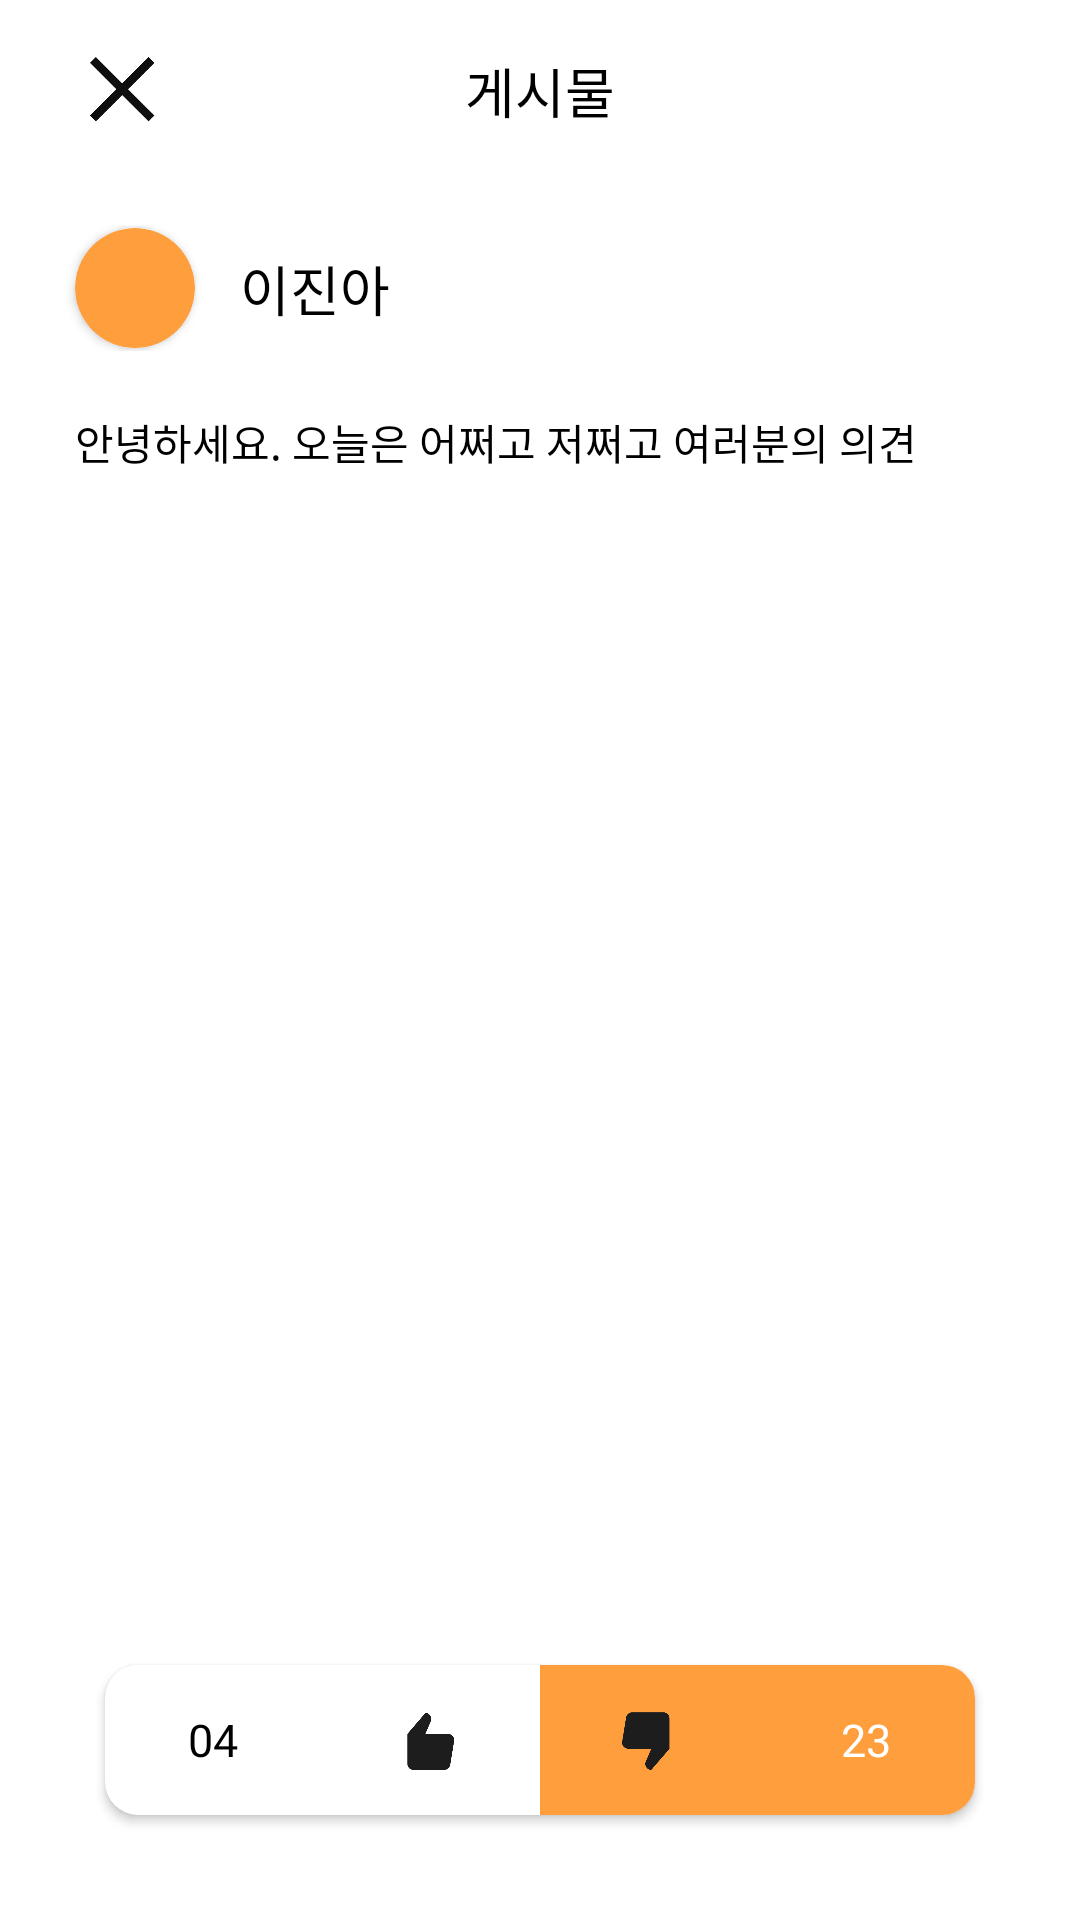

Locate icon controls on the screen. Image size 1080px x 1920px, boxes as {"x1": x1, "y1": y1, "x2": x2, "y2": y2}.
bad: {"x1": 622, "y1": 1712, "x2": 670, "y2": 1770}
good: {"x1": 407, "y1": 1713, "x2": 454, "y2": 1770}
